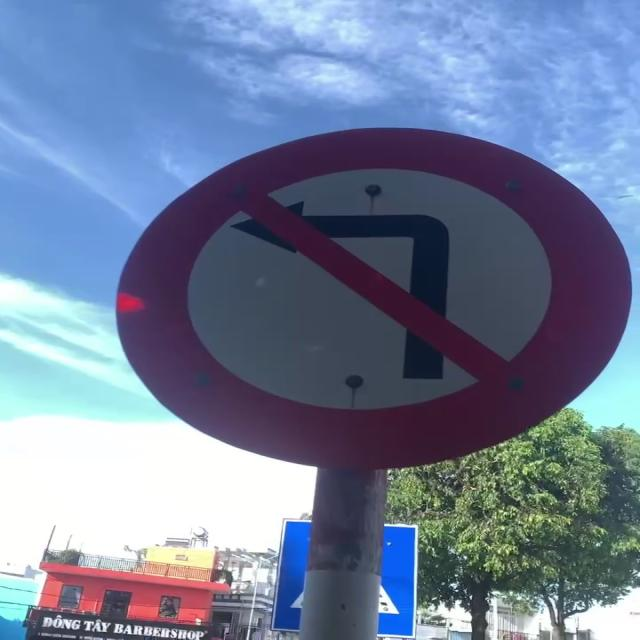Cam_Re_Trai: (114, 123, 633, 479)
